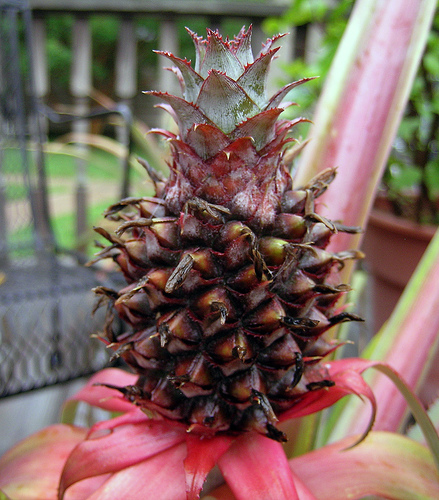pineapple: (90, 17, 370, 427)
